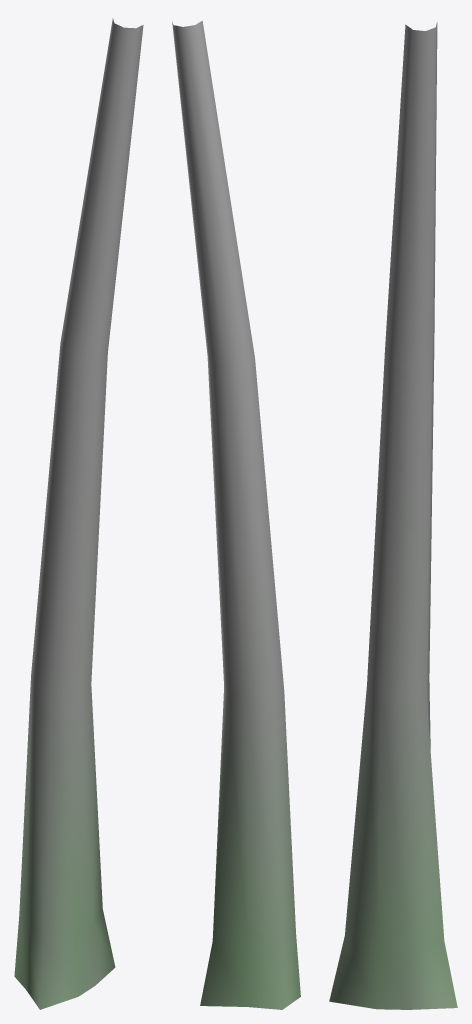
Rendered from jungleA_bark_lod2.glb.
3 views of the same model, side by side, from view 1: azimuth 30°, elevation 25°; view 2: azimuth 210°, elevation 25°; view 3: azimuth 330°, elevation 25° (orthographic). The views are drawn at different scales.
Visible parts, largest first — view 1: jungleA; view 2: jungleA; view 3: jungleA.
Part boxes in pixels (left/top/right/bottom): jungleA: left=14, top=18, right=143, bottom=1009; jungleA: left=172, top=20, right=300, bottom=1009; jungleA: left=329, top=22, right=457, bottom=1009.
Size of the model in its own units: 2.94 by 26.56 by 2.82.
